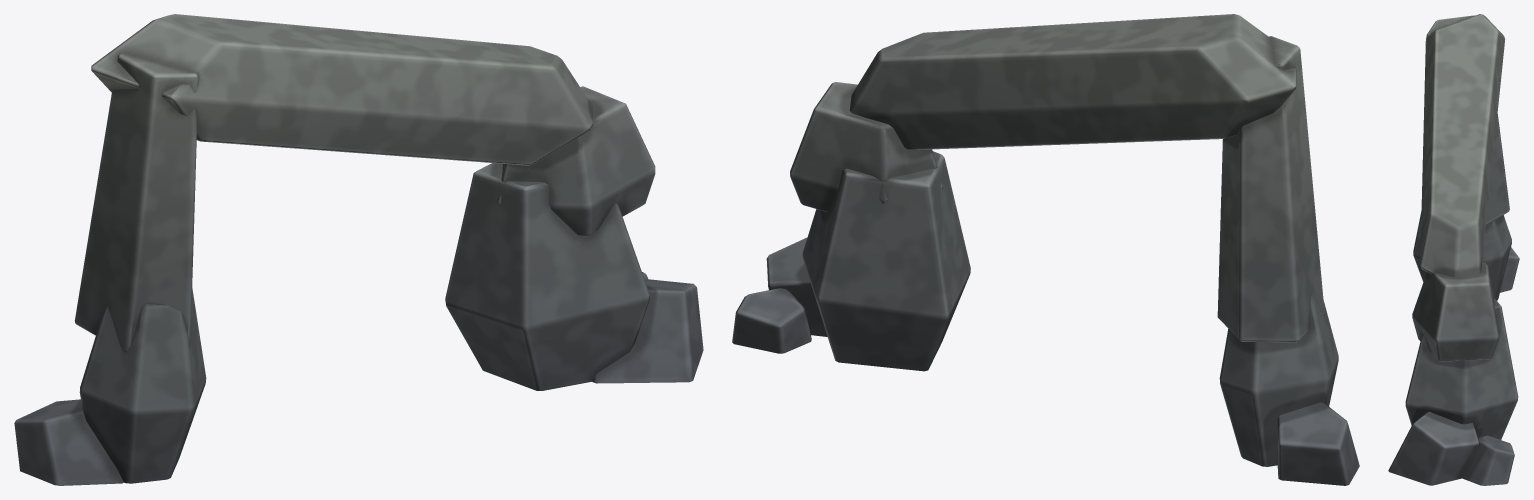
File: arch_2.glb
3 renders of one model, left to right at view 1: azimuth 30°, elevation 25°; view 2: azimuth 150°, elevation 25°; view 3: azimuth 270°, elevation 25°, orthographic. The views are drawn at different scales.
Parts seen in each view (by area): view 1: arch_2; view 2: arch_2; view 3: arch_2.
Boxes of the visible parts, left/top/right/bottom form: arch_2: left=14, top=14, right=703, bottom=485; arch_2: left=732, top=14, right=1359, bottom=485; arch_2: left=1388, top=14, right=1519, bottom=485.
Bounding box in the file's own units: 9.4 × 6 × 2.4.
Materials: 1 (1 with a texture image).
